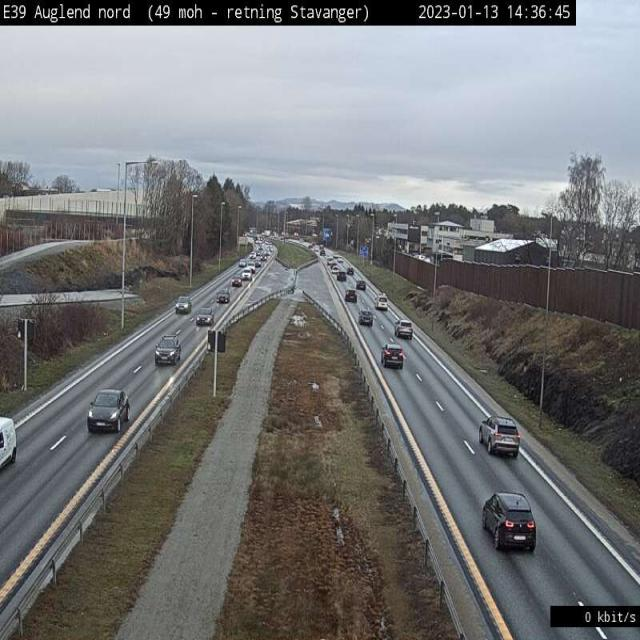car: (482, 493, 537, 552), (86, 389, 131, 435), (478, 415, 522, 459), (154, 336, 181, 365), (382, 344, 406, 369), (396, 320, 414, 339), (175, 296, 192, 314), (193, 312, 213, 326), (216, 294, 229, 305)
